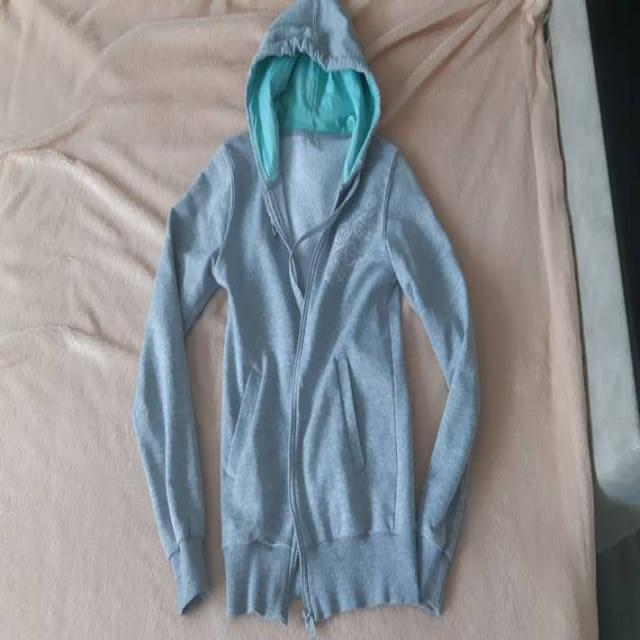Clothes -Biodegradable-: (130, 0, 474, 634)
